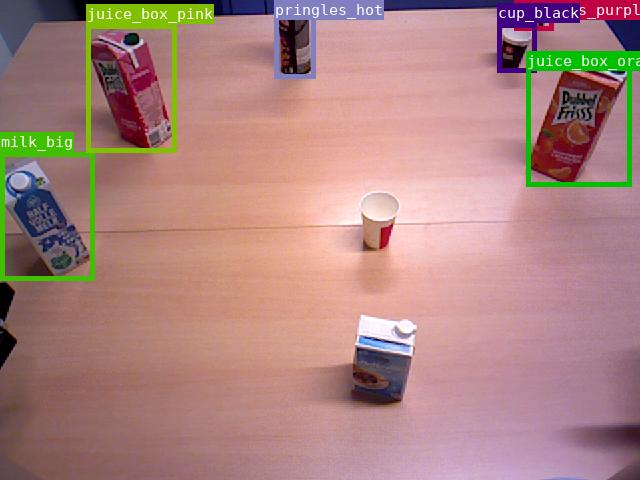cup_black: (497, 23, 536, 72)
juice_box_orange: (526, 51, 631, 186)
juice_box_pink: (86, 24, 176, 152)
milk_big: (0, 152, 94, 280)
pringles_hot: (274, 0, 315, 78)
pringles_purple: (514, 0, 553, 30)
